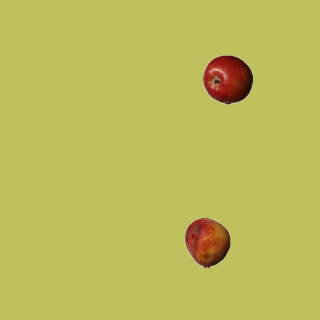Apple Braeburn: (202, 54, 252, 104)
Peach: (182, 217, 232, 267)
